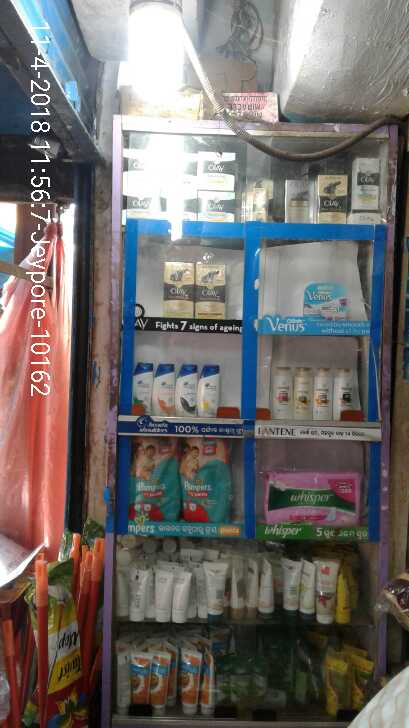venus: (303, 281, 349, 316)
